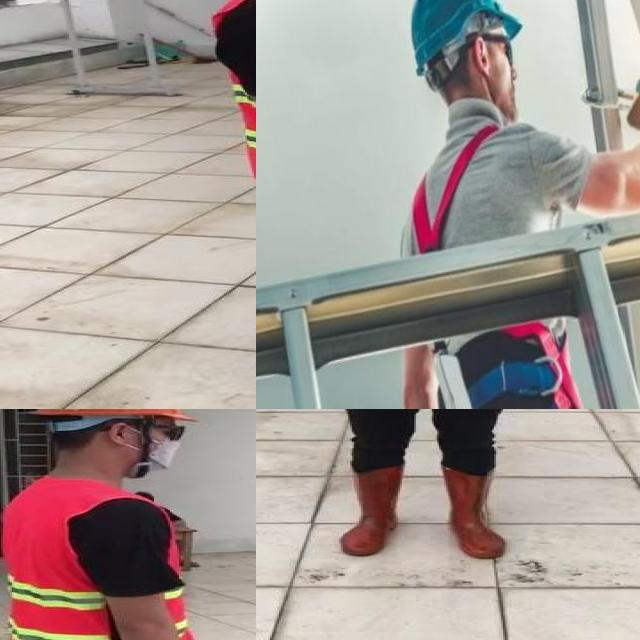Harness: (413, 124, 499, 254), (467, 359, 558, 409)
boots: (441, 462, 506, 559), (343, 464, 400, 556)
face_mask: (110, 416, 194, 476)
head_helmet: (26, 409, 199, 426)
person: (0, 409, 223, 640), (283, 409, 566, 579), (192, 0, 256, 409)
vest: (1, 475, 200, 640)
